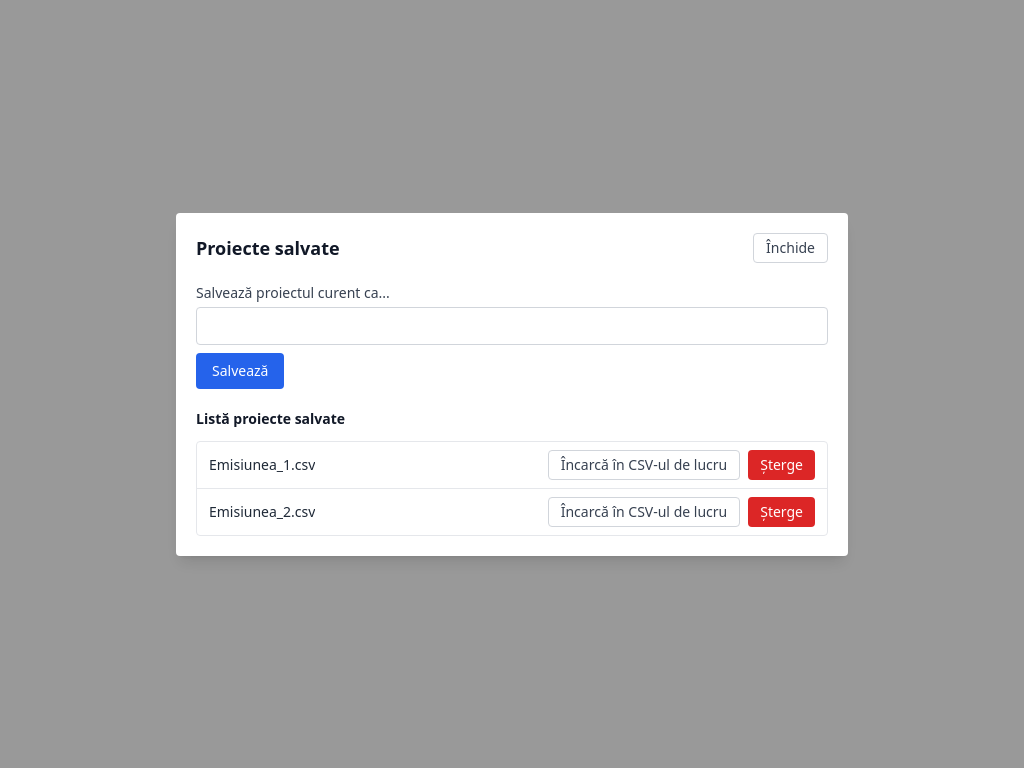
SavedProjectsModal › shows a clear message and does not close when load backup fails
The width and height of the screenshot is (1024, 768).
Check: the text "Emisiunea_1.csv" is shown, box [209,454,315,474]
Click the button "Încarcă în CSV-ul de lucru" in the row of "Emisiunea_1.csv" at (644, 464), box [548,450,740,480]
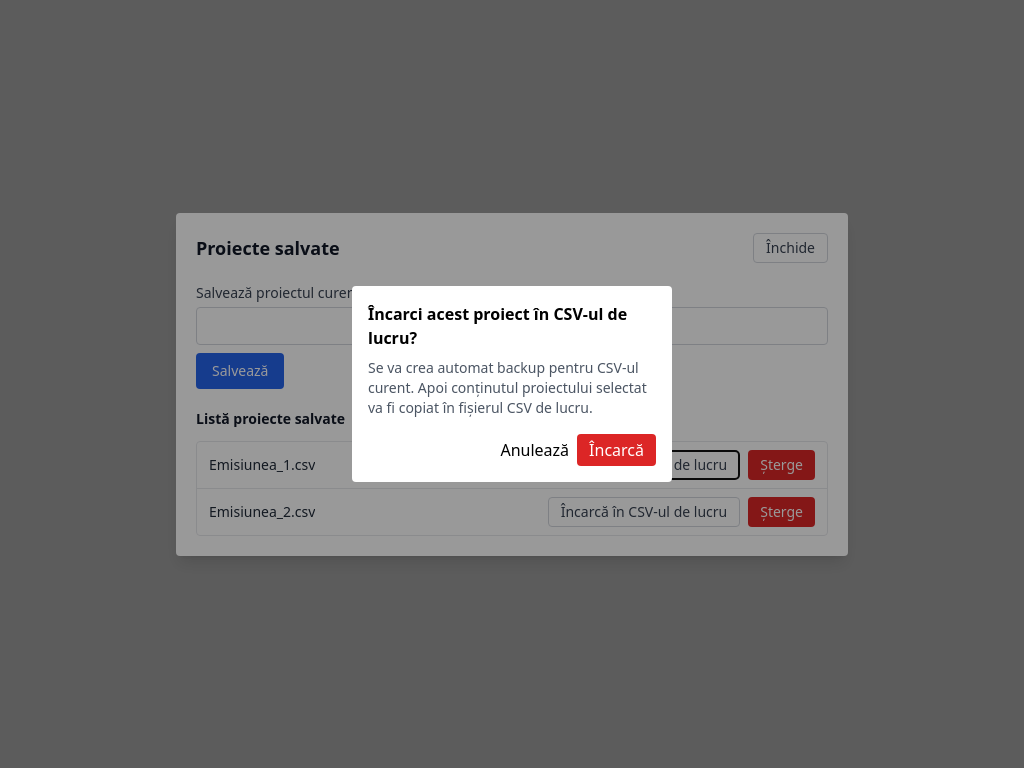
Click the button "Încarcă" at (617, 450), box [577,434,656,466]
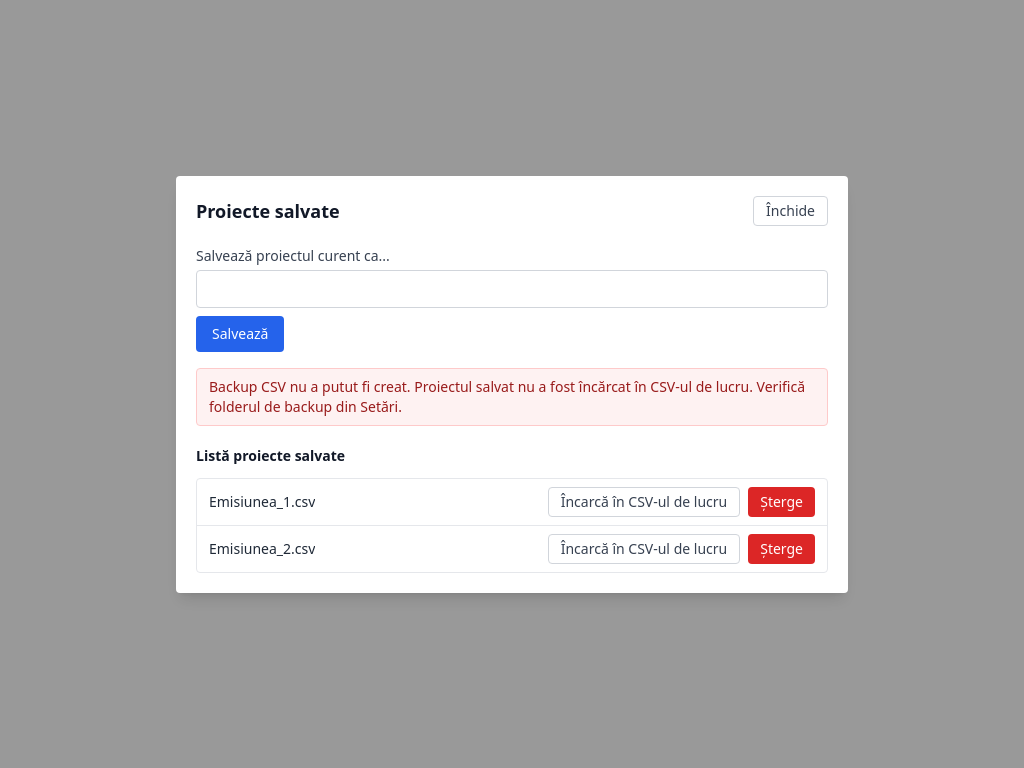
Check: the message shows "Backup CSV nu a putut fi creat. Proiectul salvat nu a fost încărcat în CSV-ul de lucru. Verifică folderul de backup din Setări.", box [209,376,805,416]
